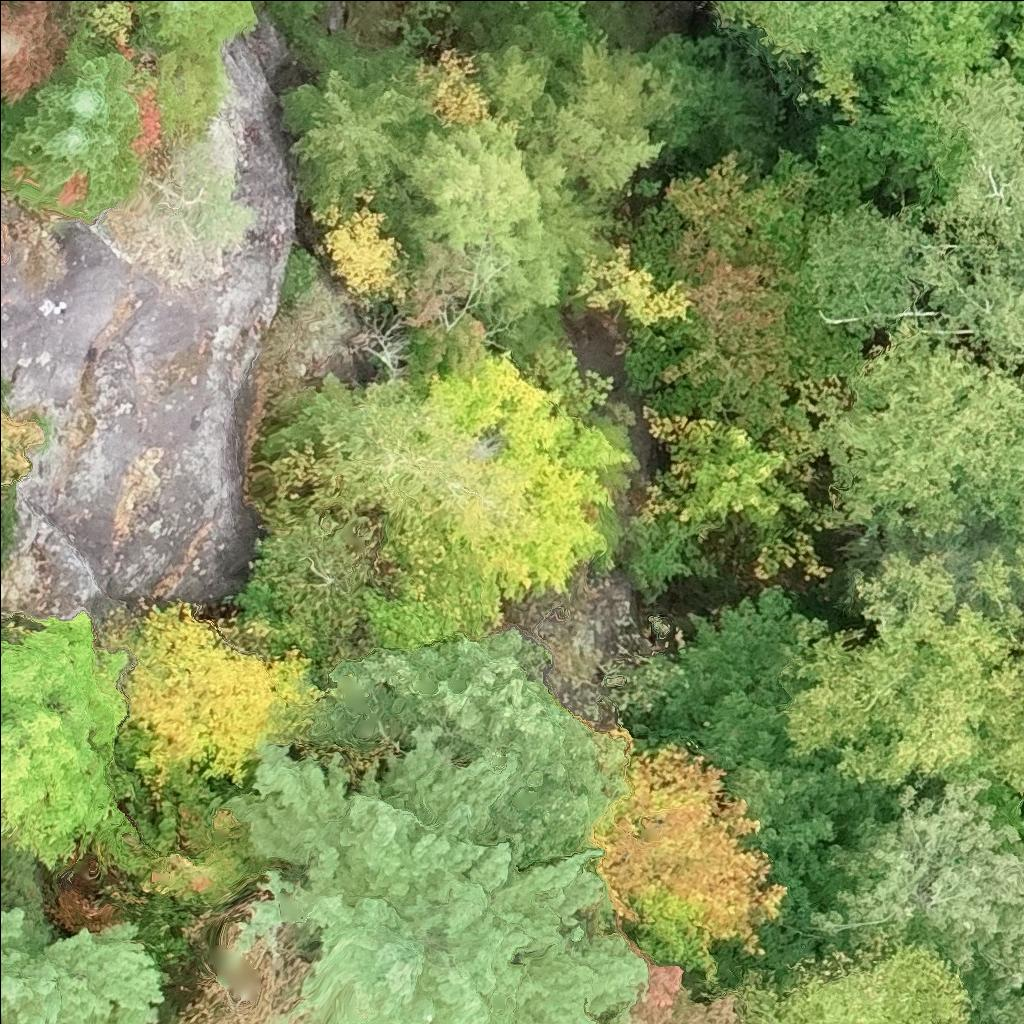crown: (226, 623, 647, 1023), (836, 232, 1023, 561), (777, 538, 1017, 788), (424, 348, 631, 600), (818, 0, 1023, 210), (118, 597, 325, 787), (275, 16, 441, 213), (706, 0, 894, 123), (740, 931, 975, 1023), (922, 57, 1023, 271), (2, 101, 141, 212), (973, 536, 1023, 796), (31, 40, 136, 135), (0, 0, 74, 106), (135, 0, 253, 53), (291, 0, 318, 14), (260, 0, 267, 2)
